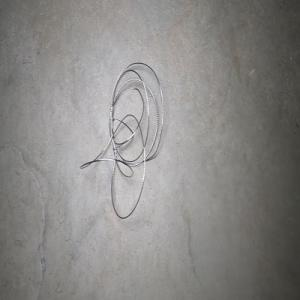Wire: (79, 62, 163, 218)
